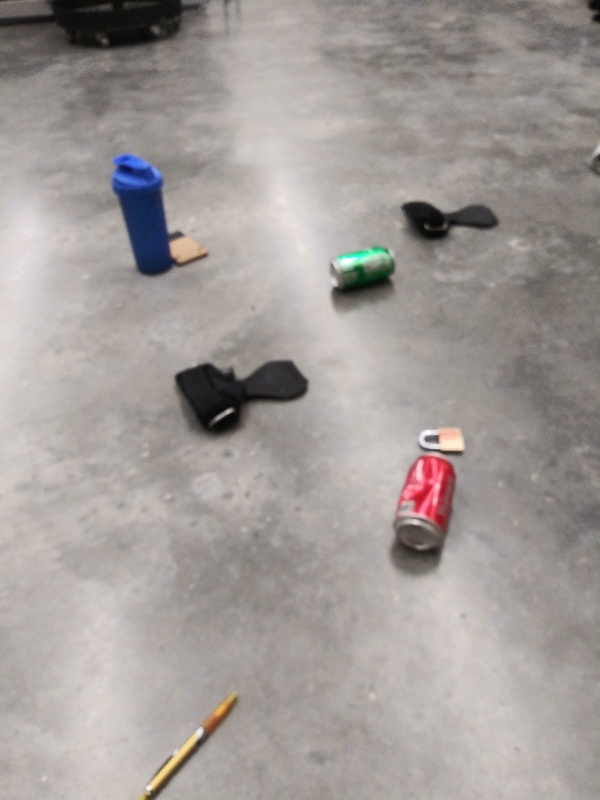can: (391, 452, 468, 556), (324, 245, 401, 298)
